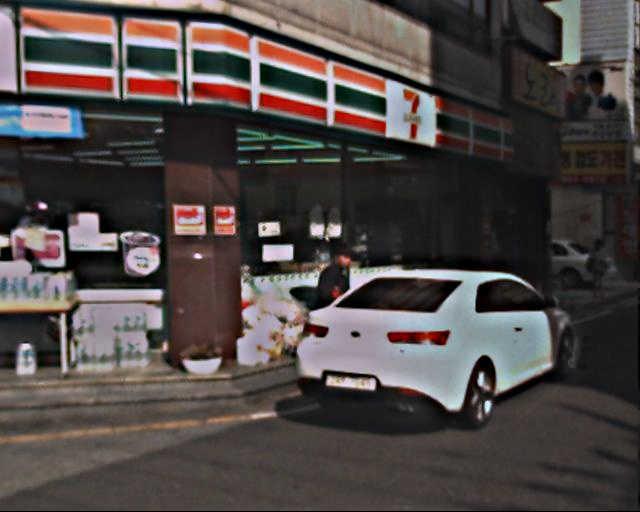person: (319, 230, 376, 370), (586, 237, 618, 301)
